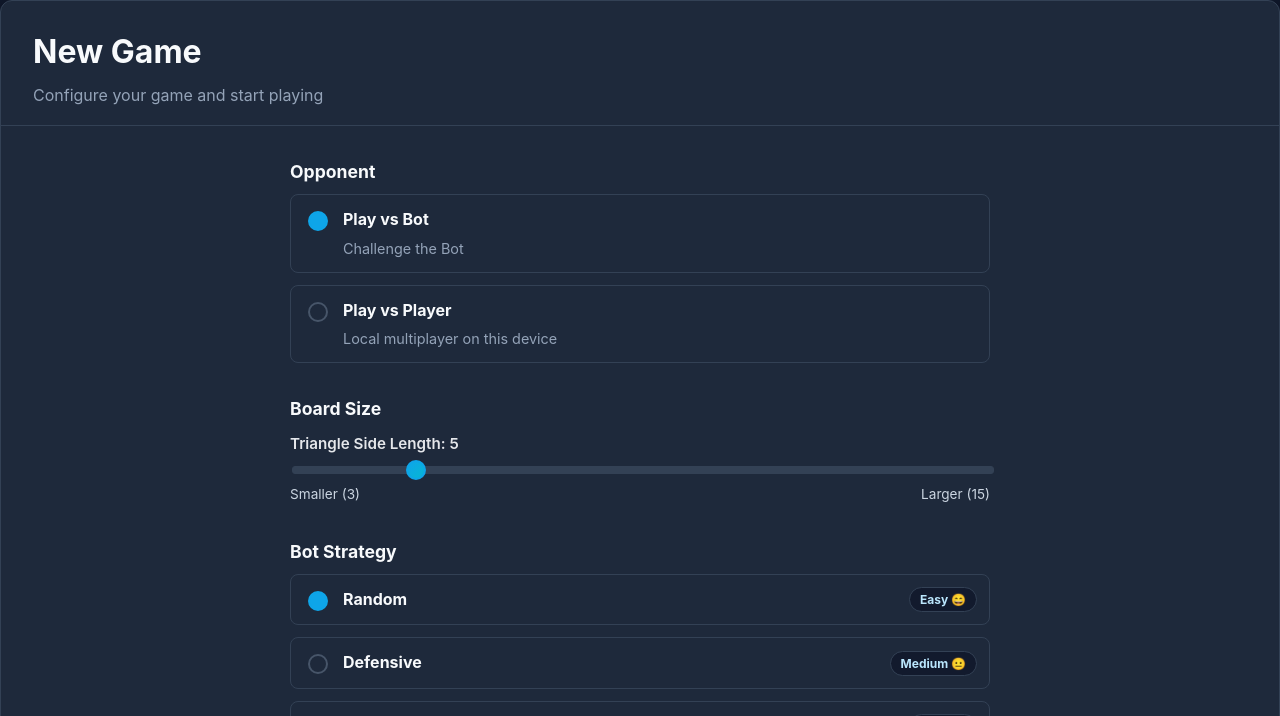
NewGamePage — rendering › Opponent Name input appears only in Player mode
The image size is (1280, 716).
Expected: the field labelled "opponent name" is not shown
What coordinates should you click on to do the following:
click the radio button labelled "Play vs Player Local multiplayer on this device"
I would click on:
 (318, 312)
Its box is [308,302,328,322].
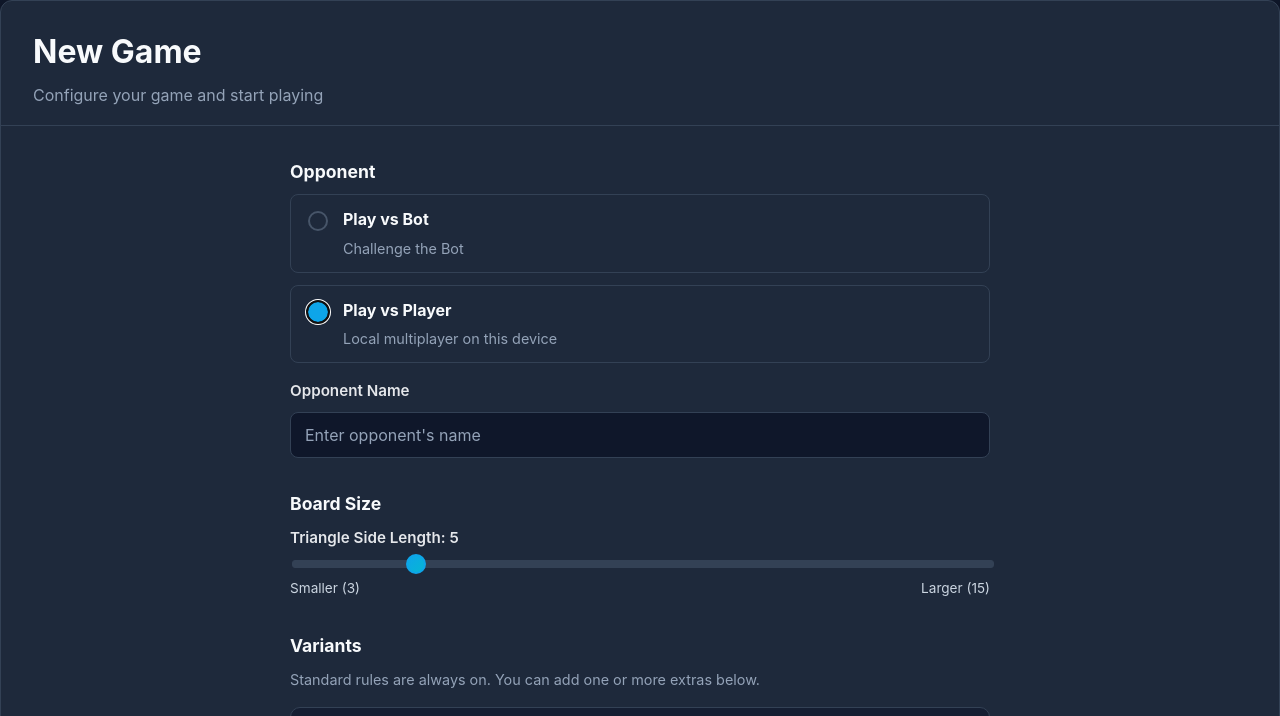
Expected: the field labelled "Opponent Name" is shown, [290,412,990,458]
